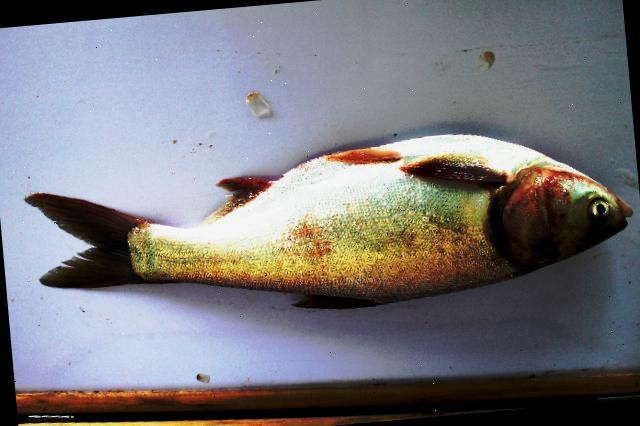Healthy Fish: (26, 134, 631, 308)
